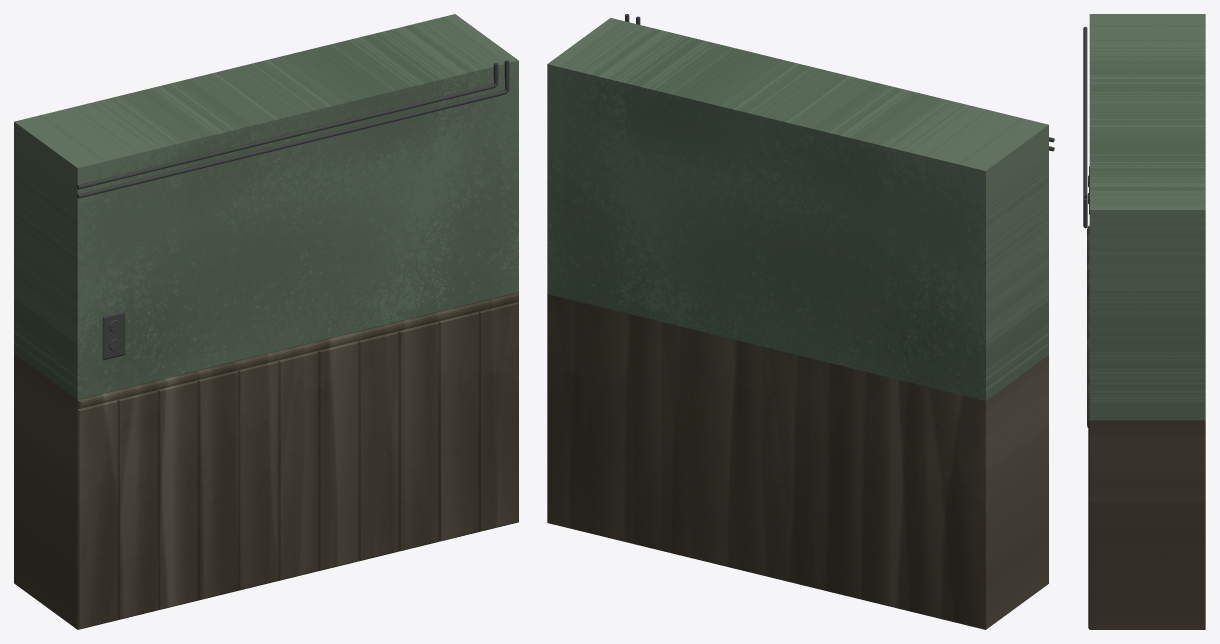
Rendered from Wall_2_R.fbx.
3 views of the same model, side by side, from view 1: azimuth 30°, elevation 25°; view 2: azimuth 150°, elevation 25°; view 3: azimuth 270°, elevation 25° (orthographic). The views are drawn at different scales.
Parts seen in each view (by area): view 1: Wall_2_R; view 2: Wall_2_R; view 3: Wall_2_R.
Boxes of the visible parts, <box> form: Wall_2_R: <box>14,14,518,629</box>; Wall_2_R: <box>547,14,1054,629</box>; Wall_2_R: <box>1083,14,1205,629</box>.
Size of the model in its own units: 4.02 by 4.04 by 1.06.
